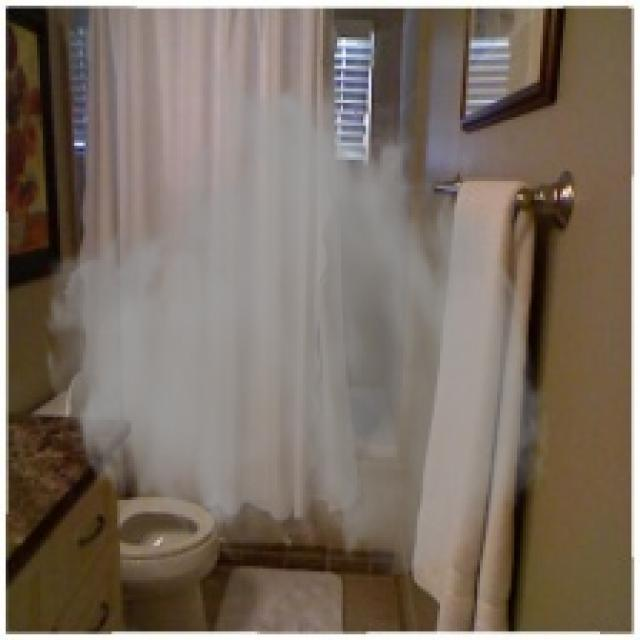smoke: (40, 54, 554, 580)
